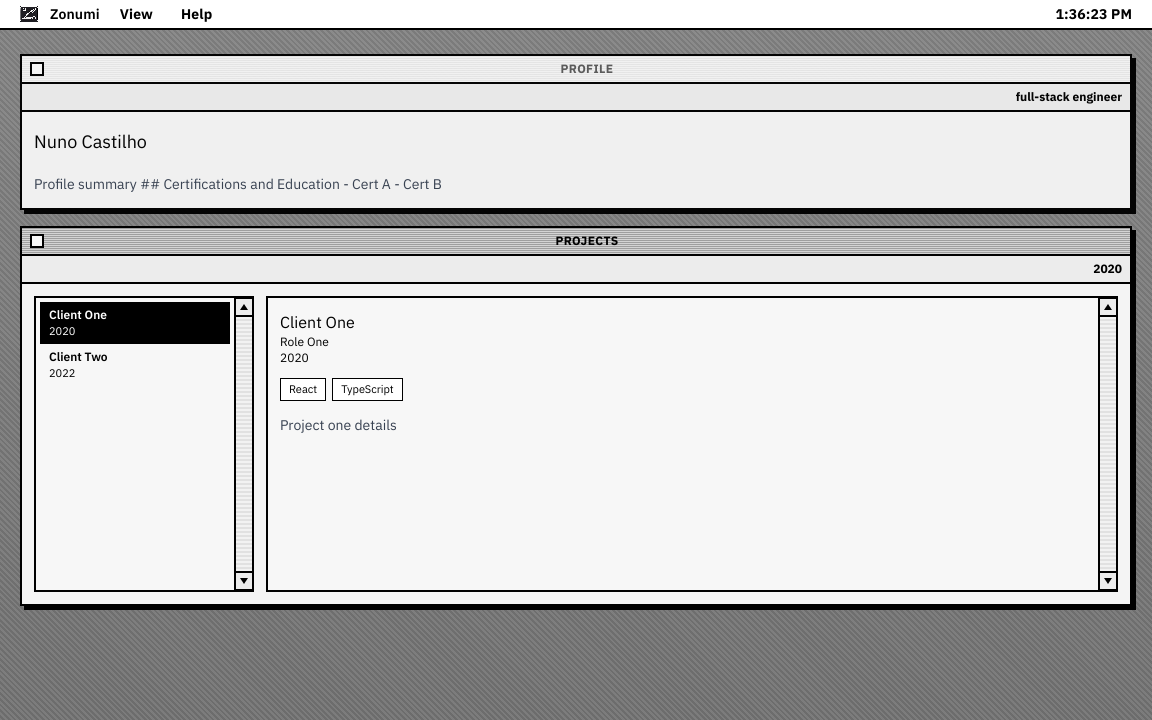
Test: DesktopWorkspace › switches selected project in the projects window
The image size is (1152, 720).
Expected: the heading "Client One" is shown, [280, 312, 355, 332]
Click the button with test id "project-selector-proj-two": (135, 365) [40, 344, 230, 386]
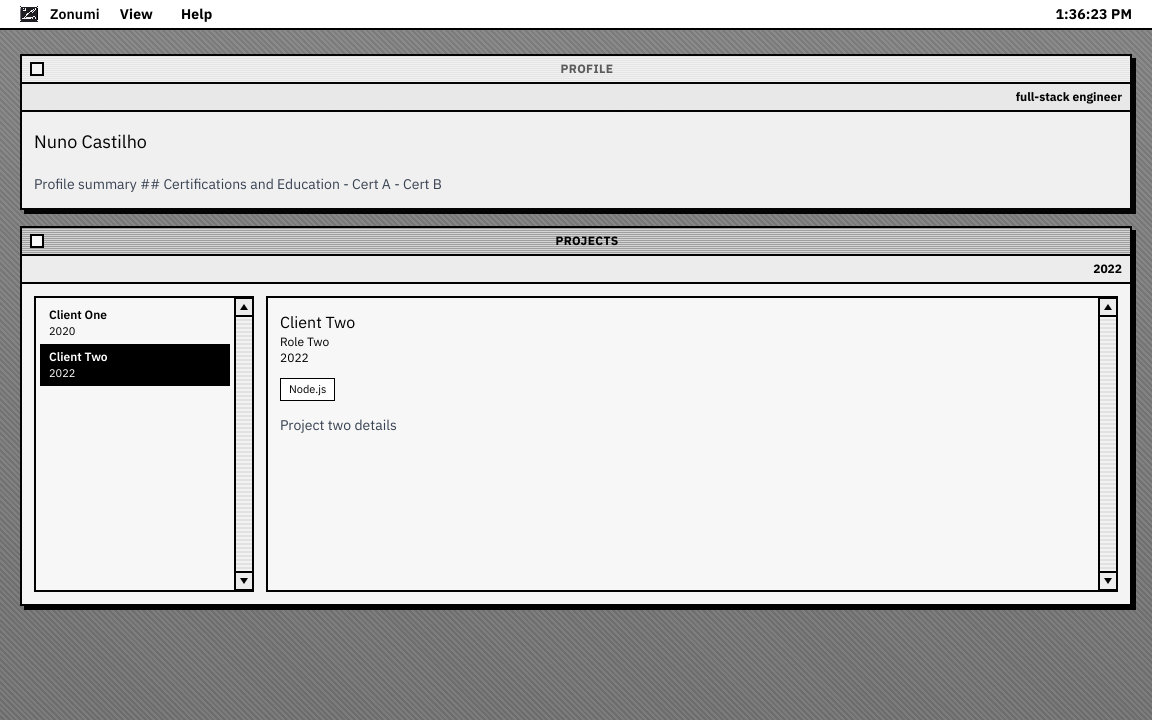
Now the heading "Client Two" is shown, box [280, 312, 355, 332]
Now the text "Role Two" is shown, box [280, 334, 329, 349]
